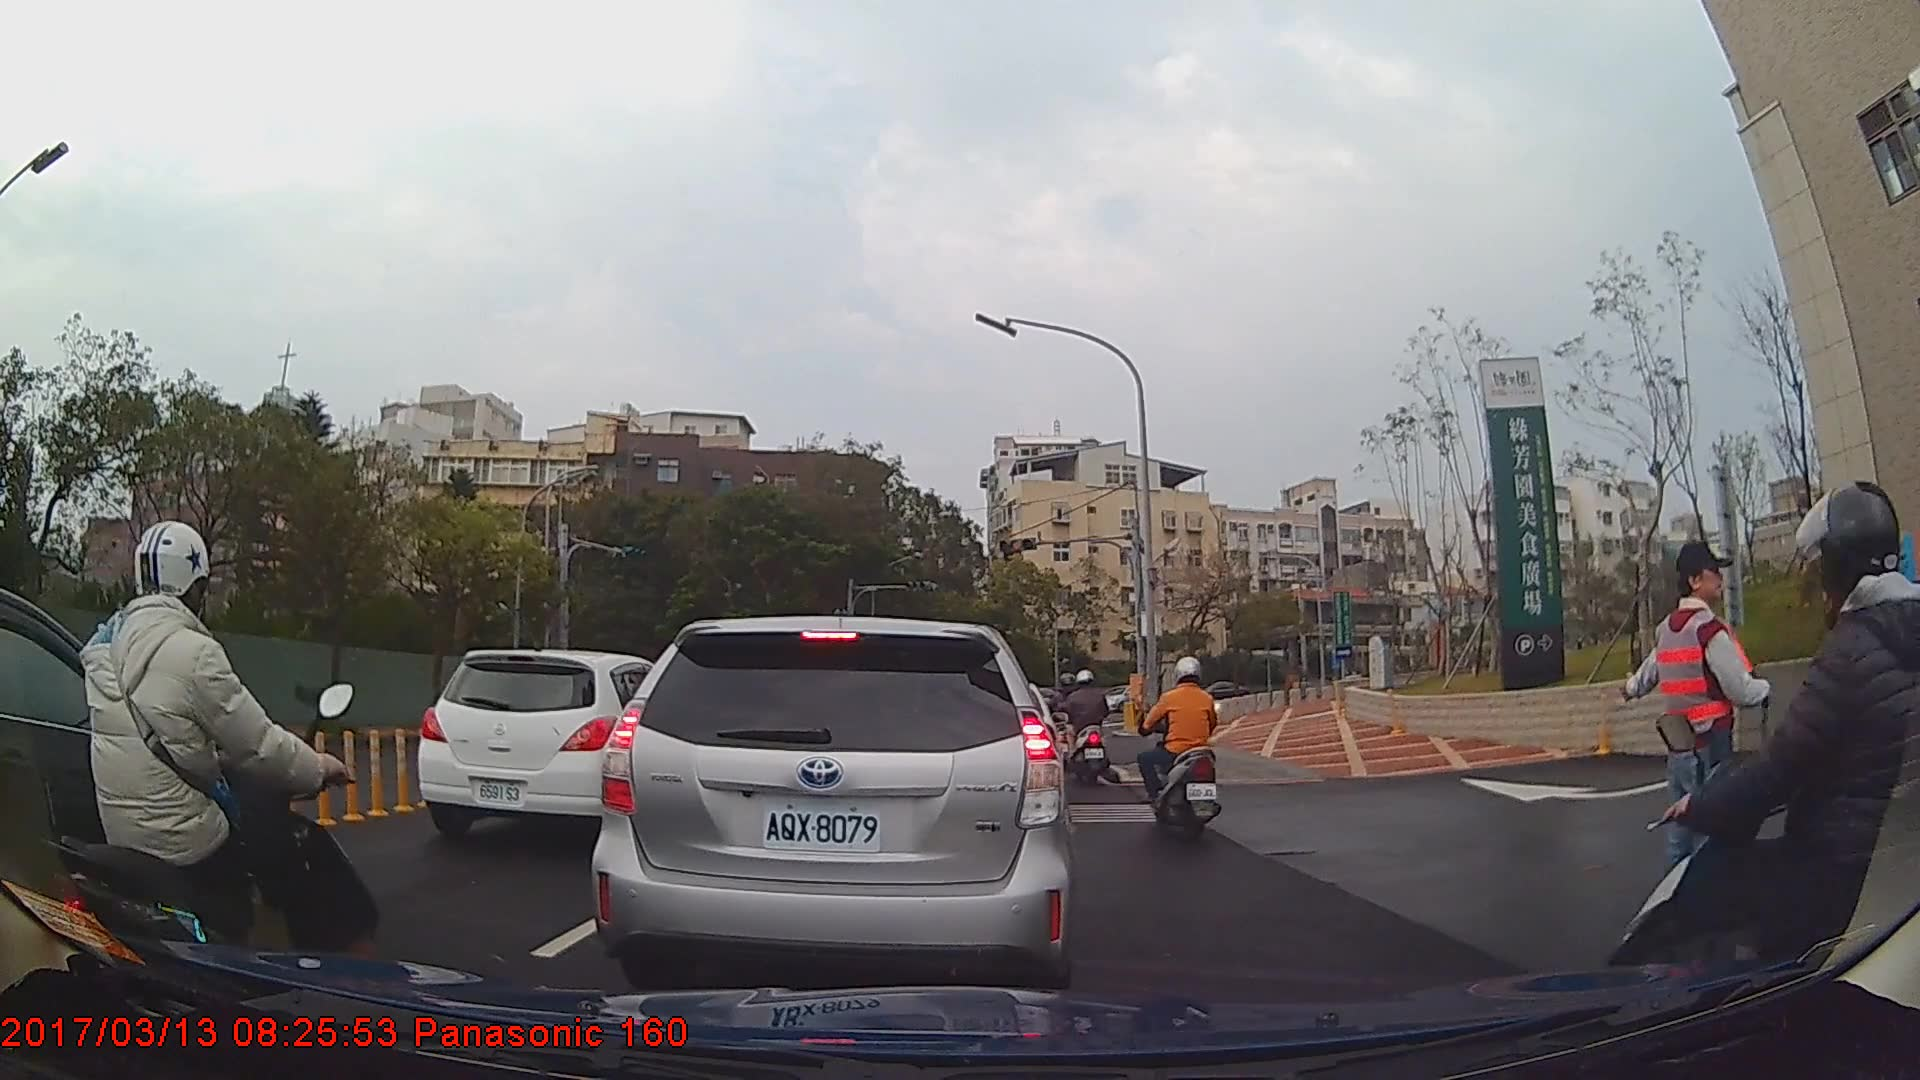pedestrian: (1617, 538, 1772, 979)
rider: (38, 522, 386, 1073), (1607, 473, 1920, 1080), (1135, 650, 1230, 840), (1063, 665, 1112, 789)
vehicle: (587, 615, 1075, 986), (417, 648, 703, 843), (1183, 678, 1252, 714)
